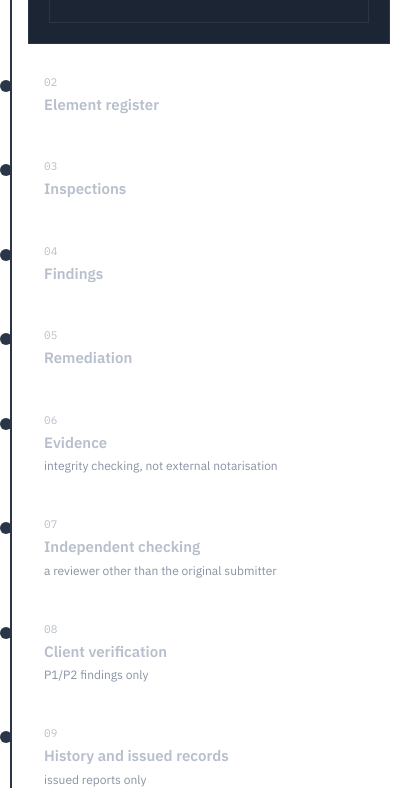
Test case: RecordSpine › switches detail content when another layer is selected
(page scrolled)
Click the button "06 Evidence integrity checking, not external notarisation" at (76, 442), box [28, 394, 390, 486]
(page scrolled)
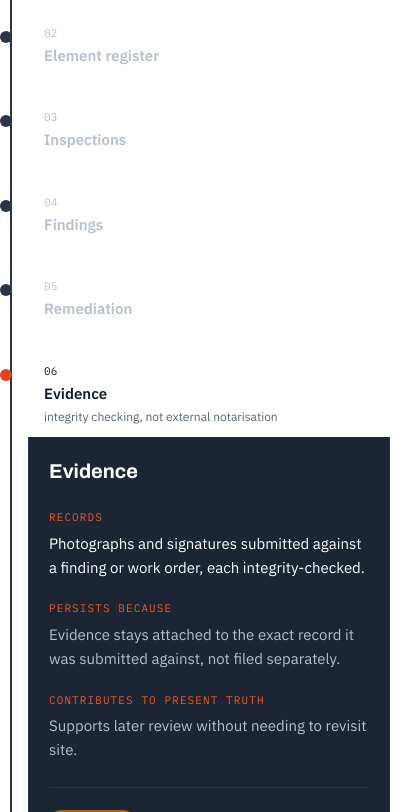
Now the heading "Evidence" is shown, box [49, 460, 138, 482]
Now the button "06 Evidence integrity checking, not external notarisation" is expanded, box [28, 344, 390, 437]
